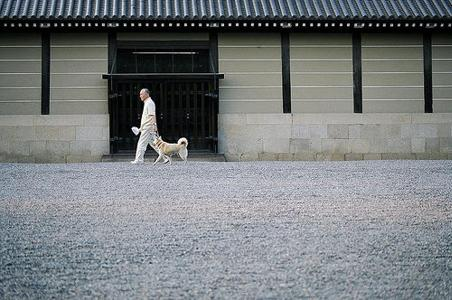person: (130, 88, 169, 165)
